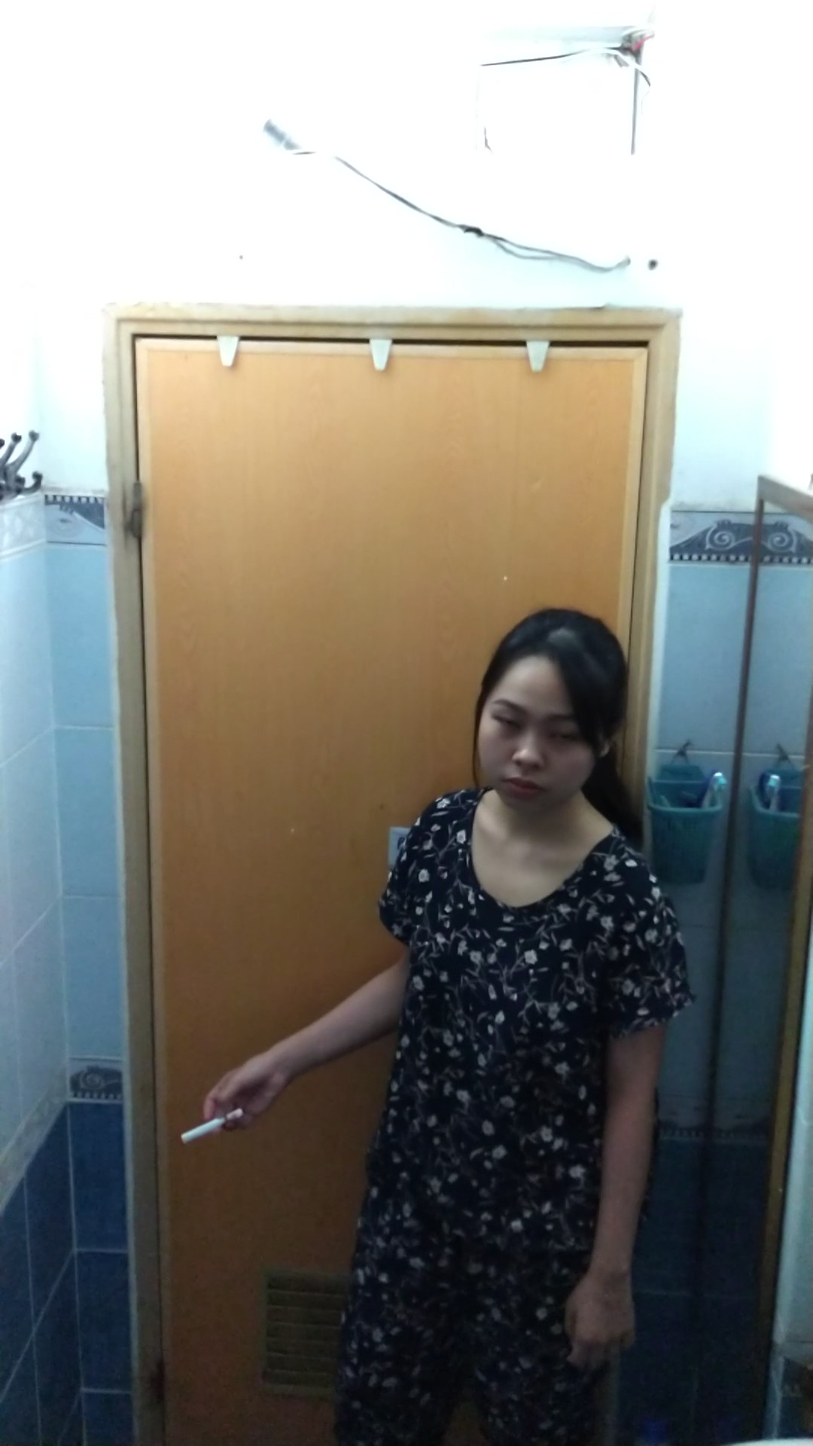cigarette: (175, 1117, 221, 1152)
person: (193, 593, 723, 1441)
